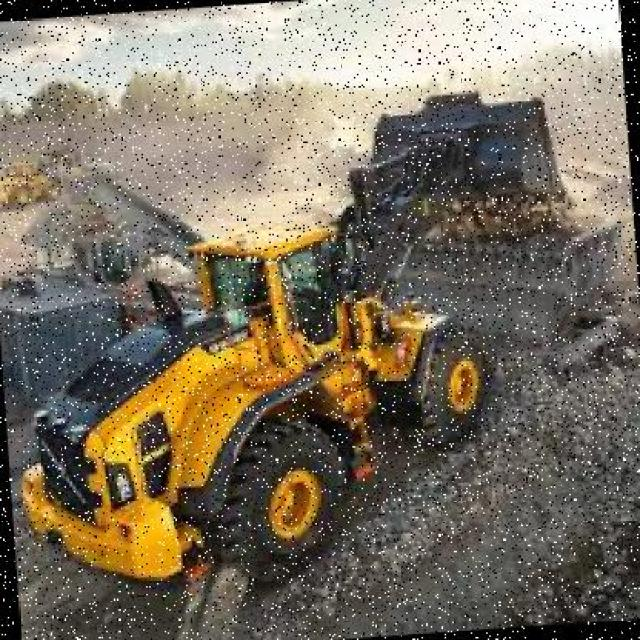buldozerpayloadergrader: (3, 203, 512, 602)
